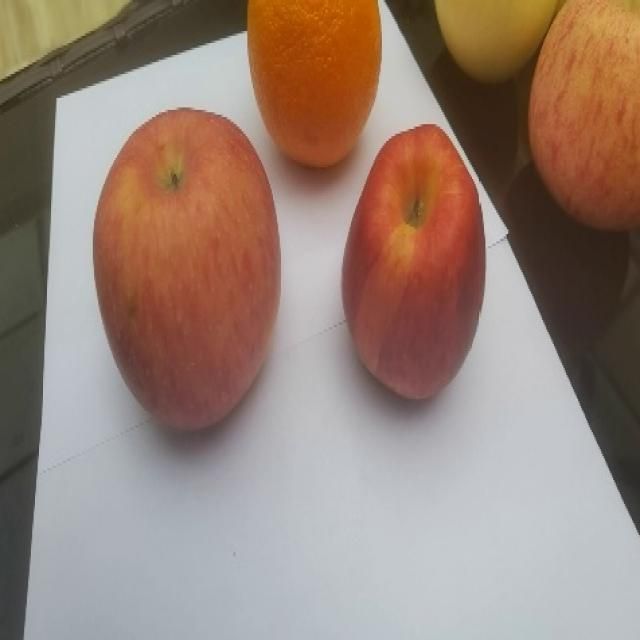Apple: (91, 106, 281, 432), (340, 123, 486, 401), (526, 0, 639, 233)
Orange: (245, 0, 382, 168)
